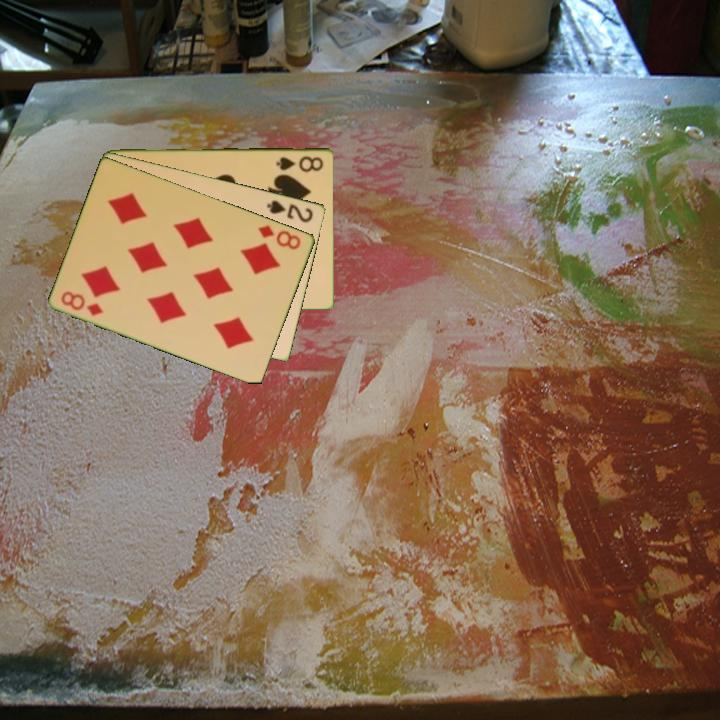2s: (264, 196, 316, 225)
8d: (58, 287, 106, 319), (255, 221, 304, 252)
8s: (273, 152, 326, 174)
